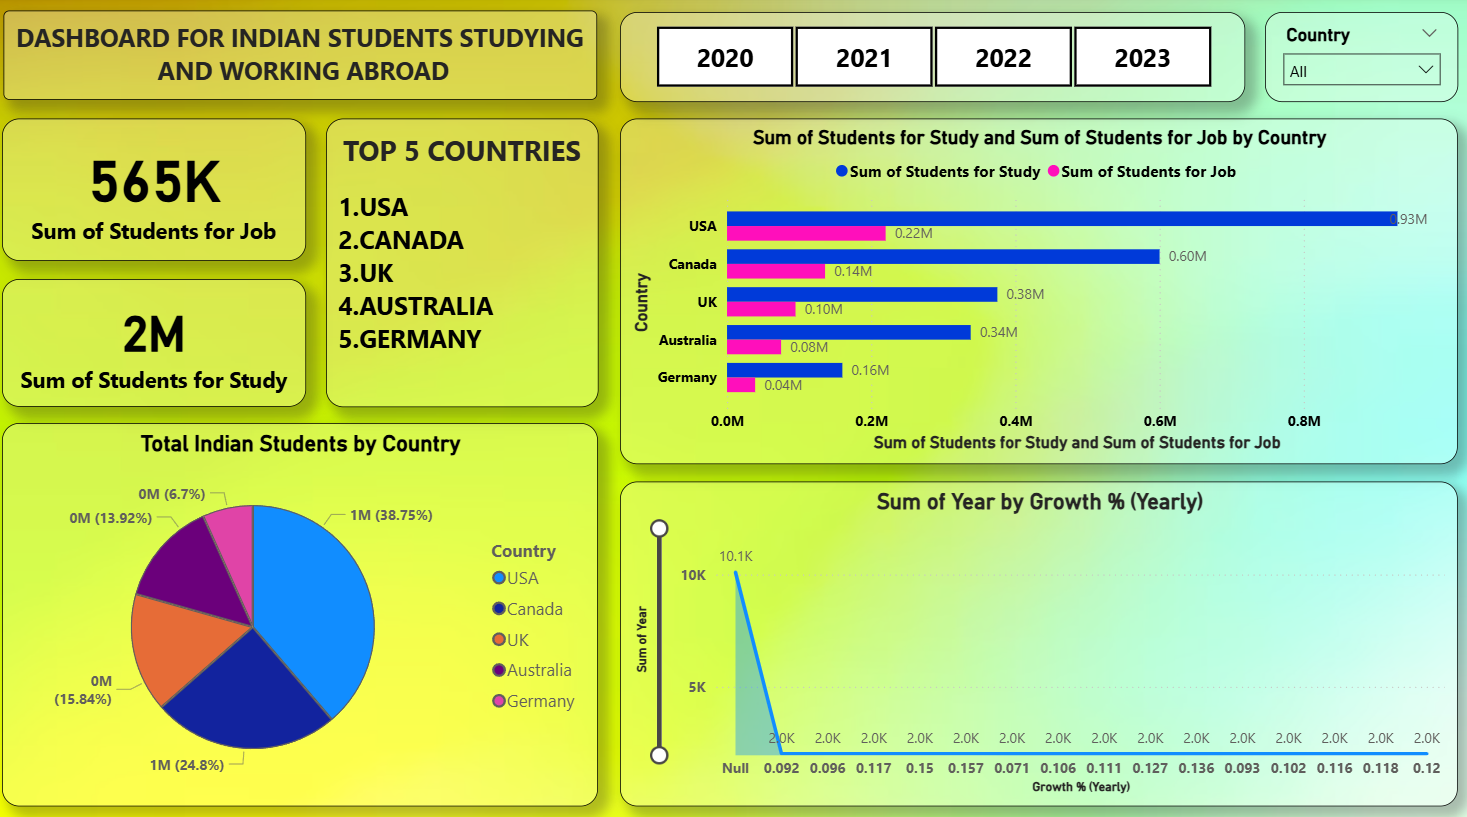

What the dashboard file says about the page in this screenshot:
{"tool":"powerbi","page":{"name":"Page 1","canvas":[1280,720],"ordinal":0},"visuals":[{"type":"pieChart","title":"Total Indian Students by Country","fields":{"Category":["Table1.Country"],"Y":["Sum(Table1.Total Indian Students)"]},"box":[8,374,516,332],"z":0},{"type":"lineChart","fields":{"Category":["Table1.Growth % (Yearly)"],"Y":["Sum(Table1.Year)"]},"box":[543.3,424.5,725.4,281.4],"z":1000},{"type":"clusteredBarChart","fields":{"Category":["Table1.Country"],"Y":["Sum(Table1.Students for Study)","Sum(Table1.Students for Job)"]},"box":[543.3,110.6,725.4,299.3],"z":2000},{"type":"textbox","box":[8.8,17.5,513.8,77.5],"z":3000},{"type":"card","fields":{"Values":["Sum(Table1.Students for Job)"]},"box":[8.1,110.6,263.5,123.6],"z":4000},{"type":"card","fields":{"Values":["Sum(Table1.Students for Study)"]},"box":[8.1,248.9,263.5,110.6],"z":5000},{"type":"textbox","box":[288,110,236,250],"z":6000},{"type":"slicer","fields":{"Values":["Table1.Year"]},"box":[543.3,17.9,541.6,78.1],"z":7000},{"type":"slicer","fields":{"Values":["Table1.Country"]},"box":[1101.2,17.9,167.5,78.1],"z":8000}]}

Visuals, with their boxes in screenshot pixels (x1, y1, x2, y2), scaled from the page's 1280x720 canvas onto the 1467x817 screenshot:
"Total Indian Students by Country" pieChart: pyautogui.locateOnScreen(9, 424, 601, 801)
lineChart - Table1.Growth % (Yearly) x Sum(Table1.Year): pyautogui.locateOnScreen(623, 482, 1454, 801)
clusteredBarChart - Table1.Country x Sum(Table1.Students for Study): pyautogui.locateOnScreen(623, 126, 1454, 465)
textbox: pyautogui.locateOnScreen(10, 20, 599, 108)
card - Sum(Table1.Students for Job): pyautogui.locateOnScreen(9, 126, 311, 266)
card - Sum(Table1.Students for Study): pyautogui.locateOnScreen(9, 282, 311, 408)
textbox: pyautogui.locateOnScreen(330, 125, 601, 408)
slicer - Table1.Year: pyautogui.locateOnScreen(623, 20, 1243, 109)
slicer - Table1.Country: pyautogui.locateOnScreen(1262, 20, 1454, 109)
